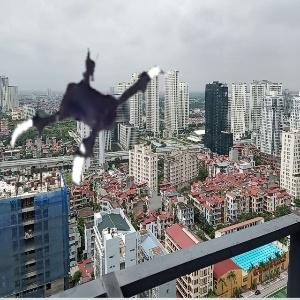drone: (4, 36, 181, 213)
